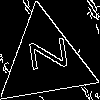Z: (20, 36, 68, 74)
